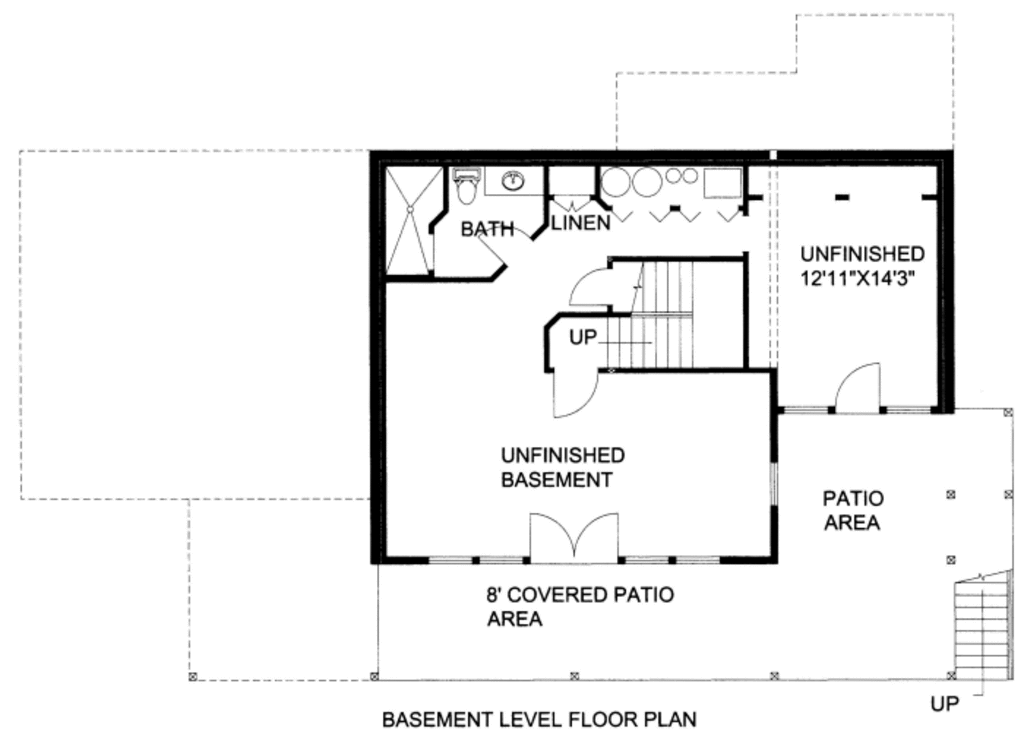door: (525, 506, 631, 570), (829, 354, 887, 421), (472, 225, 537, 271), (546, 369, 608, 415), (566, 265, 607, 312), (545, 189, 602, 218)
large_sink: (454, 166, 489, 211)
small_sink: (482, 163, 541, 198)
stairs: (605, 261, 750, 373), (933, 560, 1024, 692)
window: (427, 552, 531, 570), (620, 557, 722, 566), (770, 460, 781, 510)
